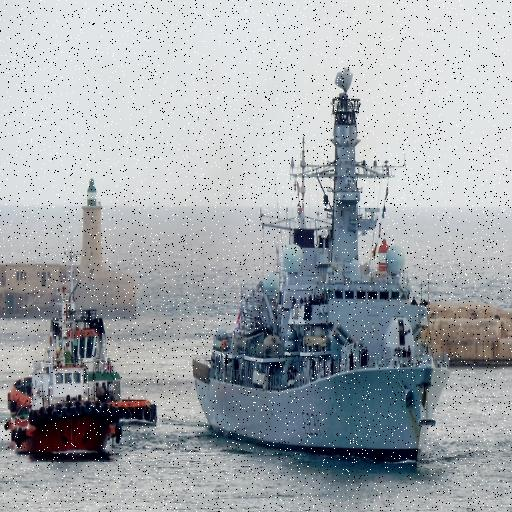Fragata: (189, 75, 453, 469)
